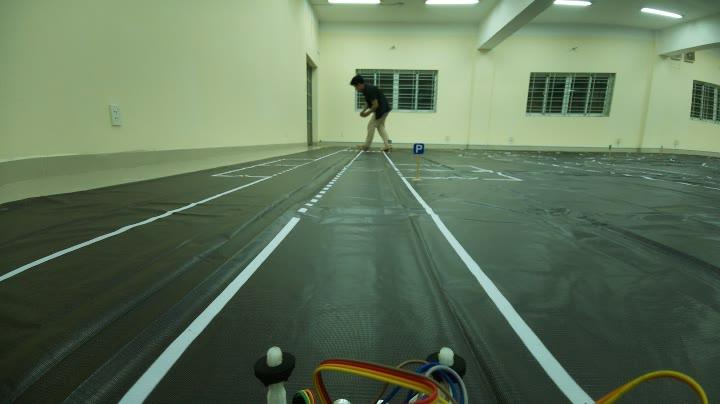parking: (409, 139, 428, 159)
